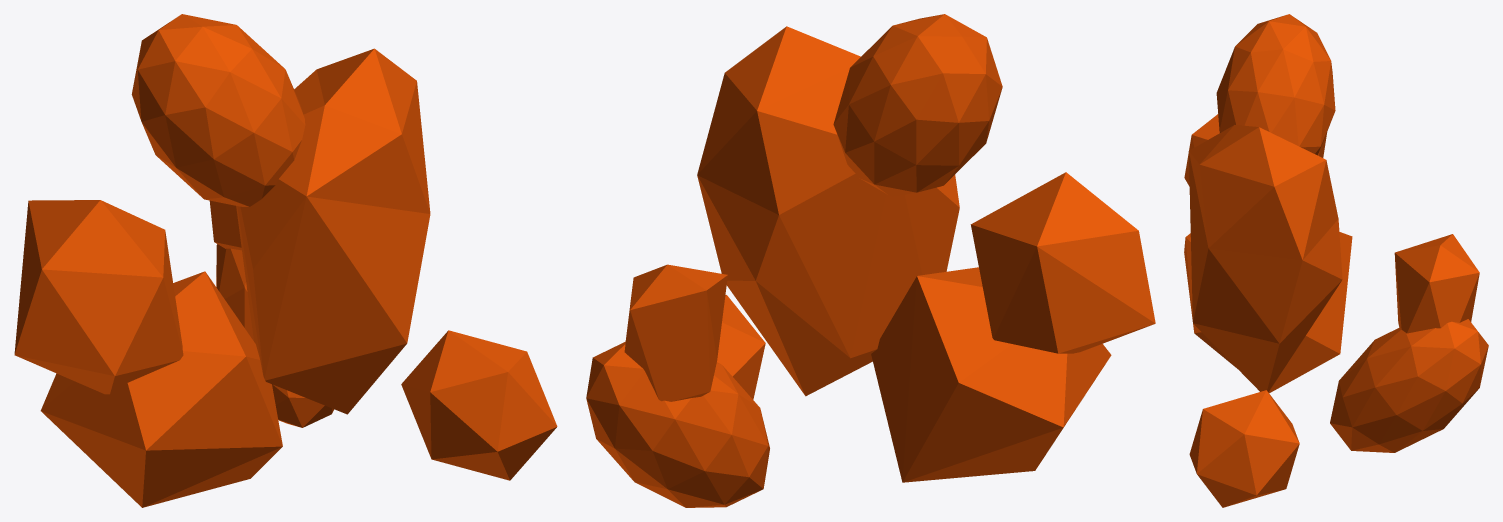
The model's file is tree-autumn-leaves-1-039.glb.
3 views of the same model, side by side, from view 1: azimuth 30°, elevation 25°; view 2: azimuth 150°, elevation 25°; view 3: azimuth 270°, elevation 25° (orthographic). The views are drawn at different scales.
Visible parts, largest first — view 1: TREE 1.003_381; view 2: TREE 1.003_381; view 3: TREE 1.003_381.
Boxes of the visible parts, box(x1,y1,x2,y2) form: TREE 1.003_381: box(14, 14, 557, 507); TREE 1.003_381: box(586, 14, 1155, 507); TREE 1.003_381: box(1184, 14, 1488, 507).
Size of the model in its own units: 1.17 by 1.08 by 0.7756.
